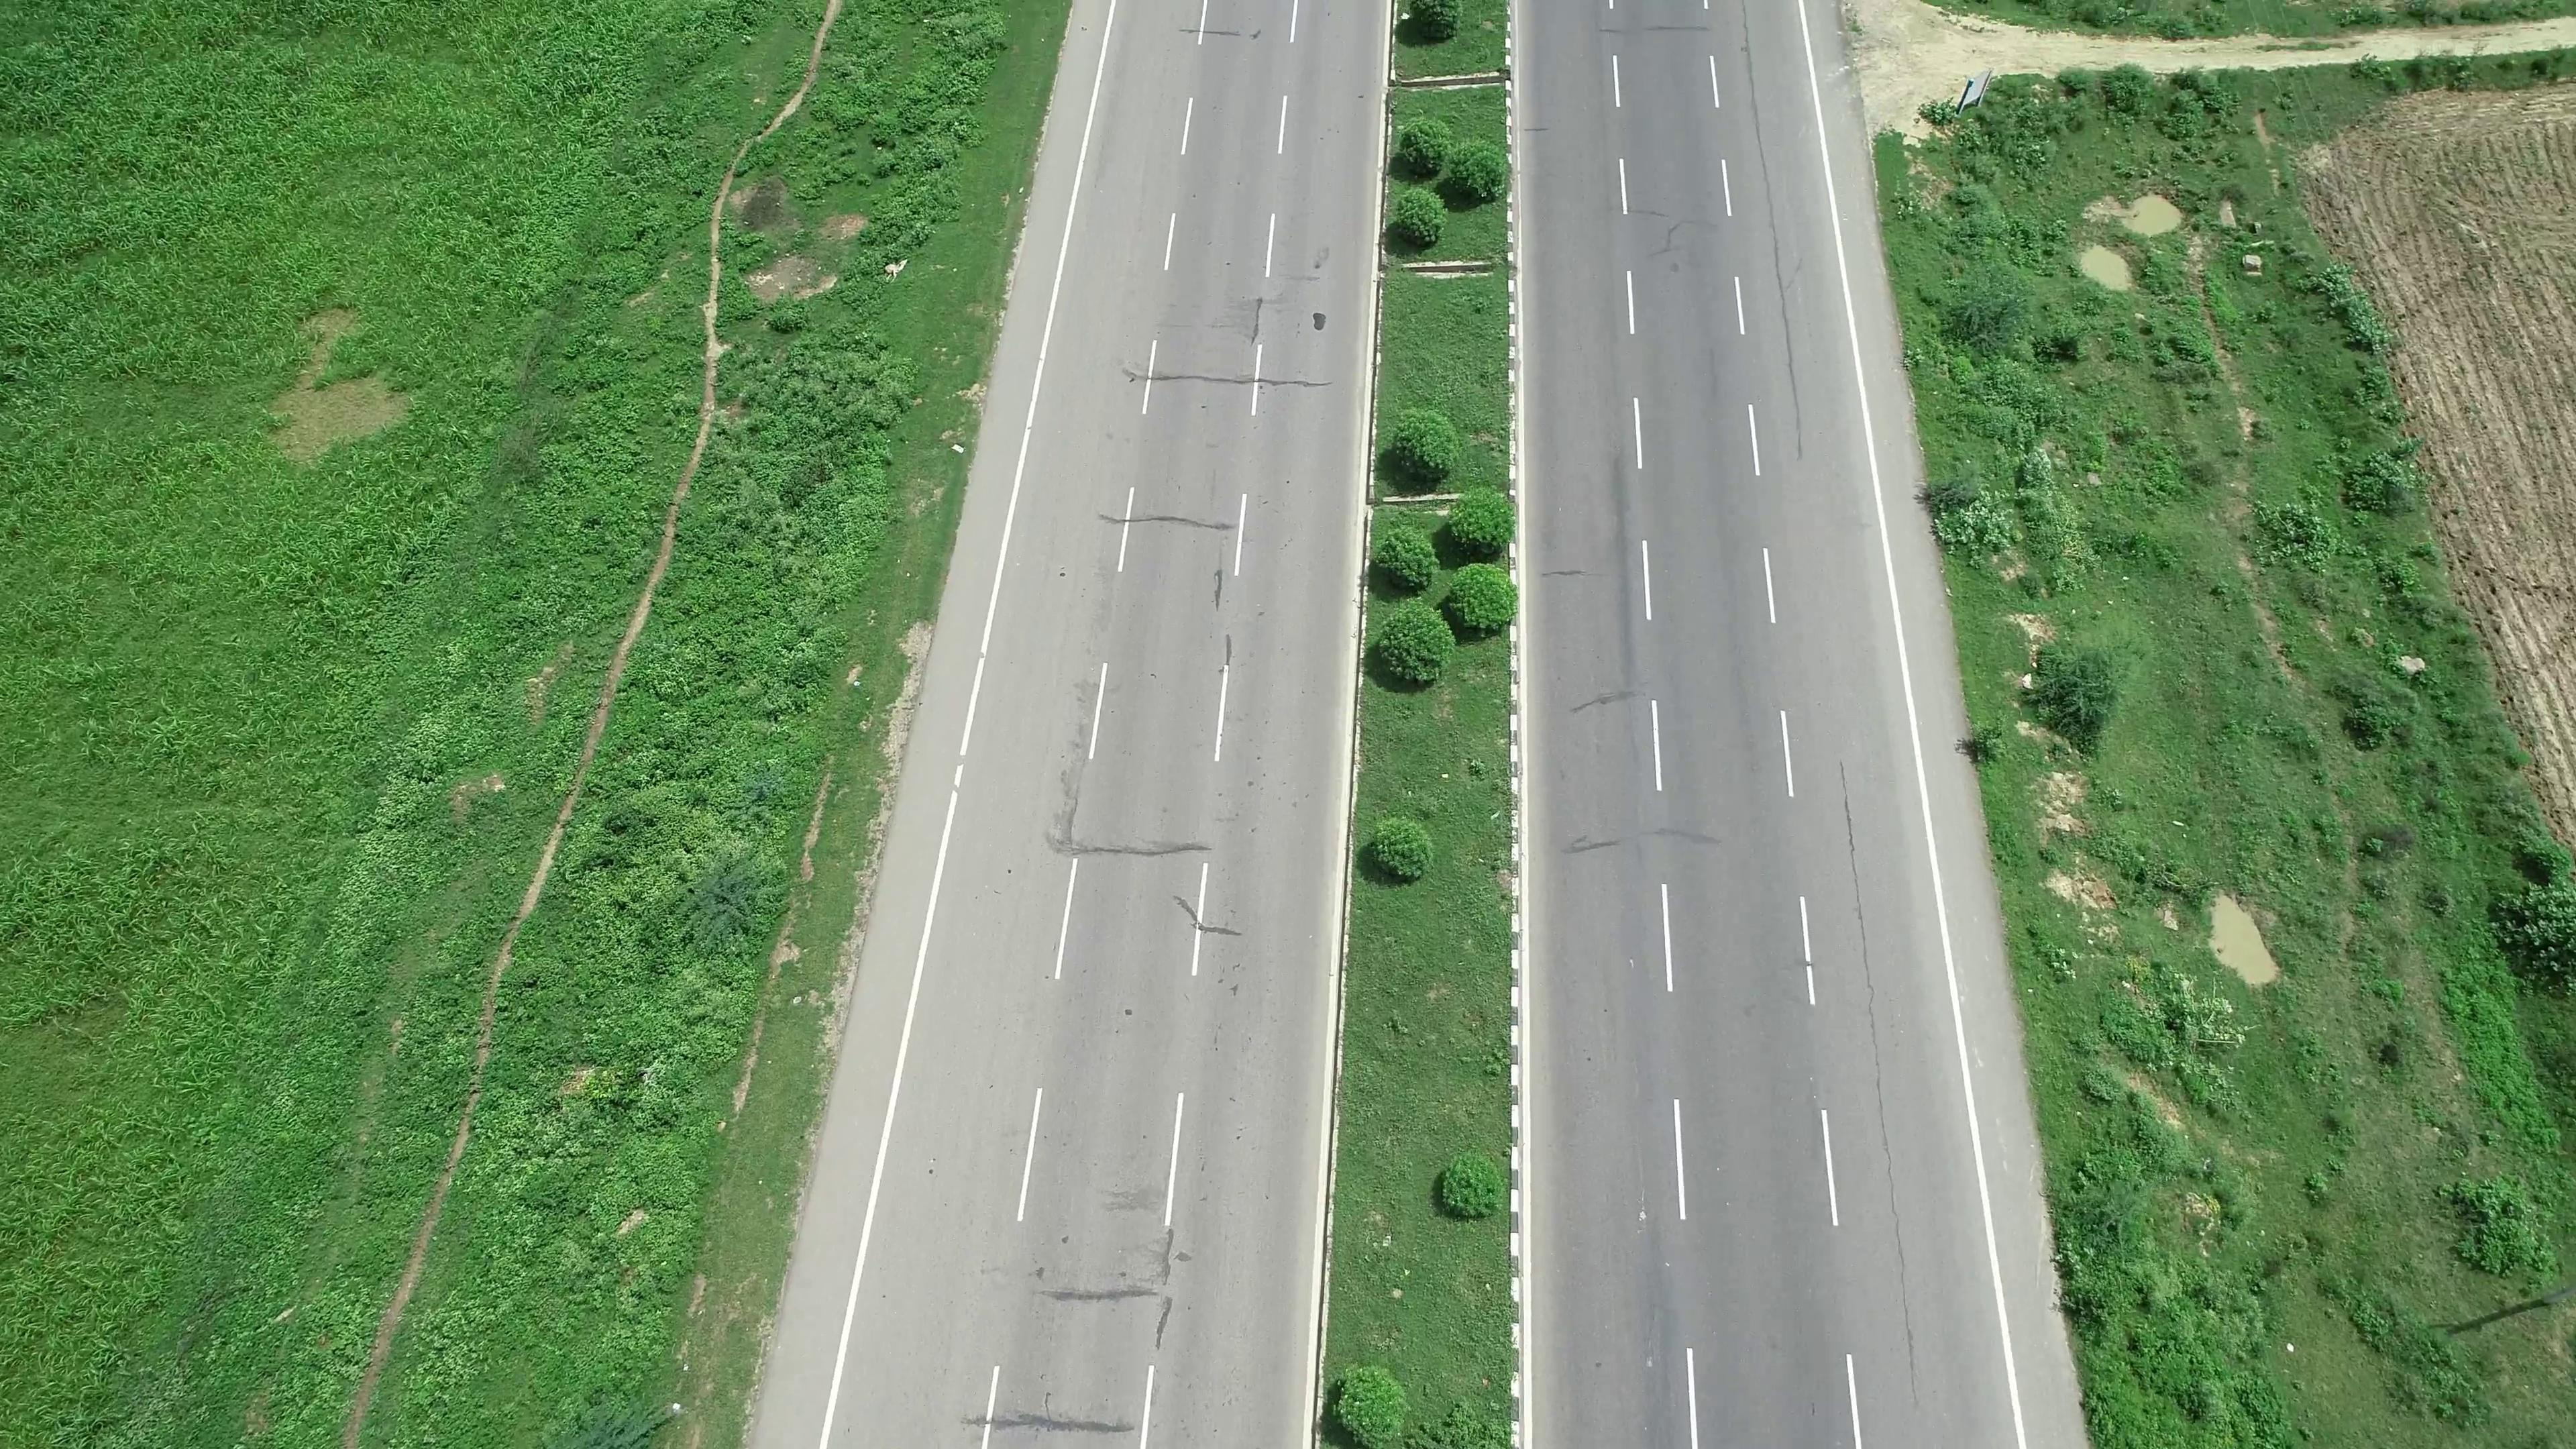Longitudinal_cracks: (1821, 757, 1930, 1362), (1734, 12, 1810, 453)
